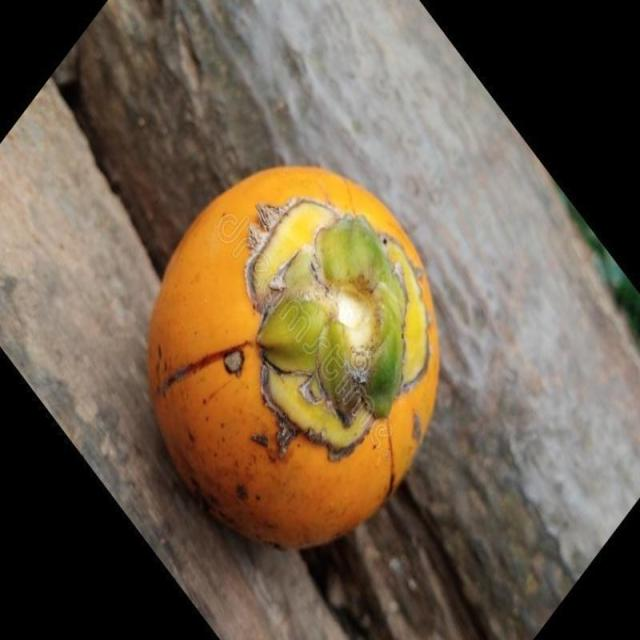good: (145, 166, 442, 553)
